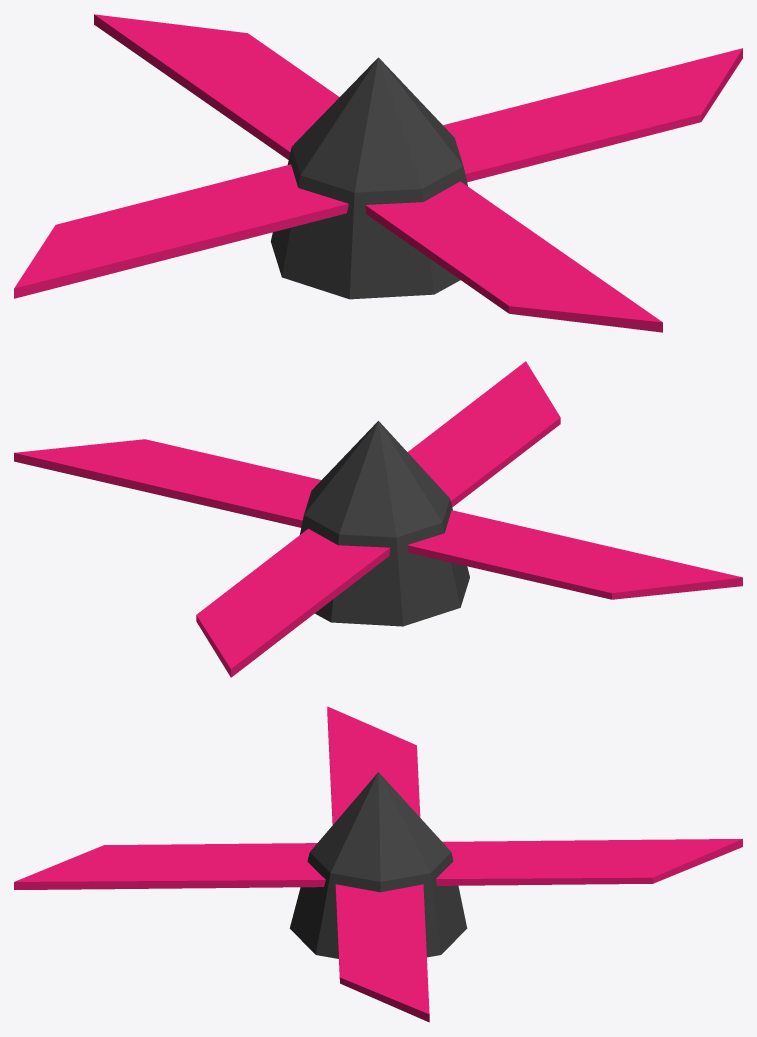
The model's file is propellerM.obj.
3 renders of one model, top to bottom at view 1: azimuth 30°, elevation 25°; view 2: azimuth 150°, elevation 25°; view 3: azimuth 270°, elevation 25°, orthographic. The views are drawn at different scales.
Parts seen in each view (by area): view 1: propeller_prop_Цилиндр.001; view 2: propeller_prop_Цилиндр.001; view 3: propeller_prop_Цилиндр.001.
Boxes of the visible parts, x1,y1,x2,y2 form: propeller_prop_Цилиндр.001: (14,14,742,332); propeller_prop_Цилиндр.001: (14,361,742,677); propeller_prop_Цилиндр.001: (14,706,742,1022).
Size of the model in its own units: 2.31 by 0.5472 by 2.31.
